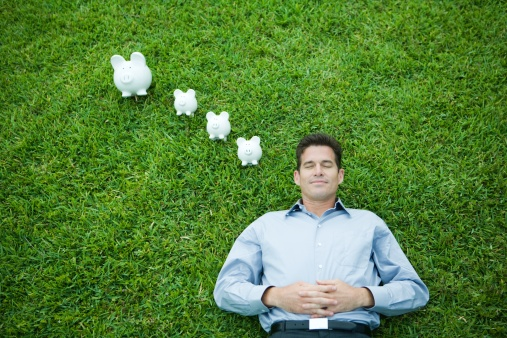deitado: (223, 119, 431, 338)
